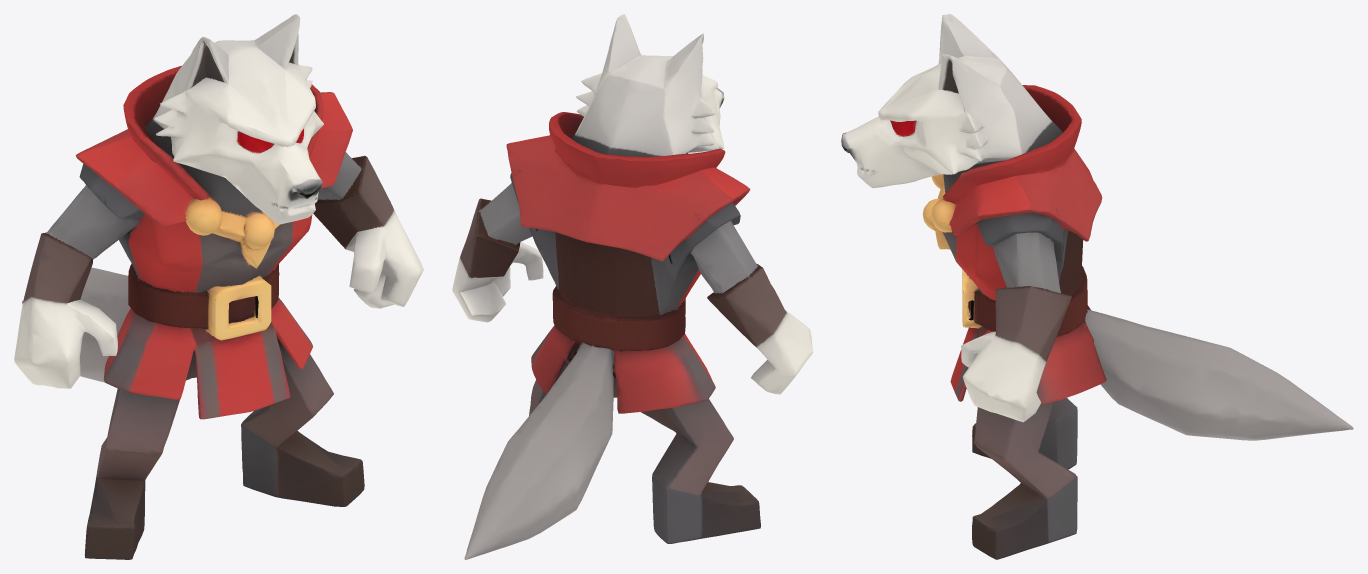
The model's file is wolf.glb.
3 views of the same model, side by side, from view 1: azimuth 30°, elevation 25°; view 2: azimuth 150°, elevation 25°; view 3: azimuth 270°, elevation 25° (orthographic). The views are drawn at different scales.
Parts seen in each view (by area): view 1: world_0; view 2: world_0; view 3: world_0.
Boxes of the visible parts, <box> form: world_0: <box>14,14,423,559</box>; world_0: <box>452,14,812,559</box>; world_0: <box>841,14,1353,559</box>.
Bounding box in the file's own units: 0.3959 × 0.5013 × 0.5005.
1 material, 1 textured.
